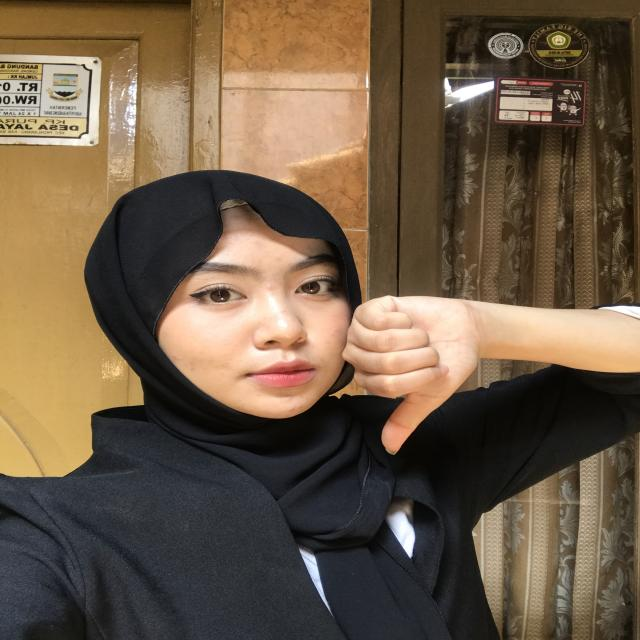sedih: (317, 277, 513, 478)
